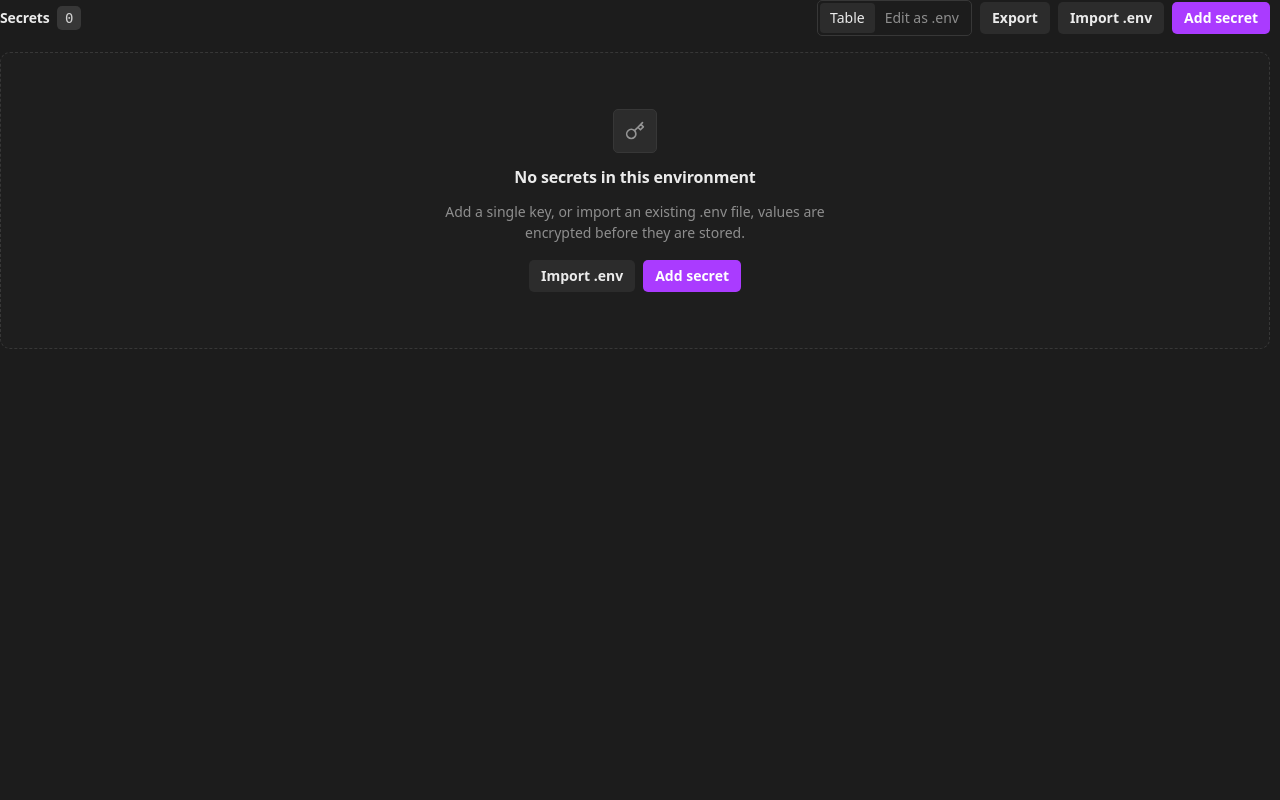
Test case: SecretsPanel create dialog › requires a value unless empty value is selected
Step 1. Click the 1st button "Add secret" → [1221, 18], box [1172,2,1270,34]
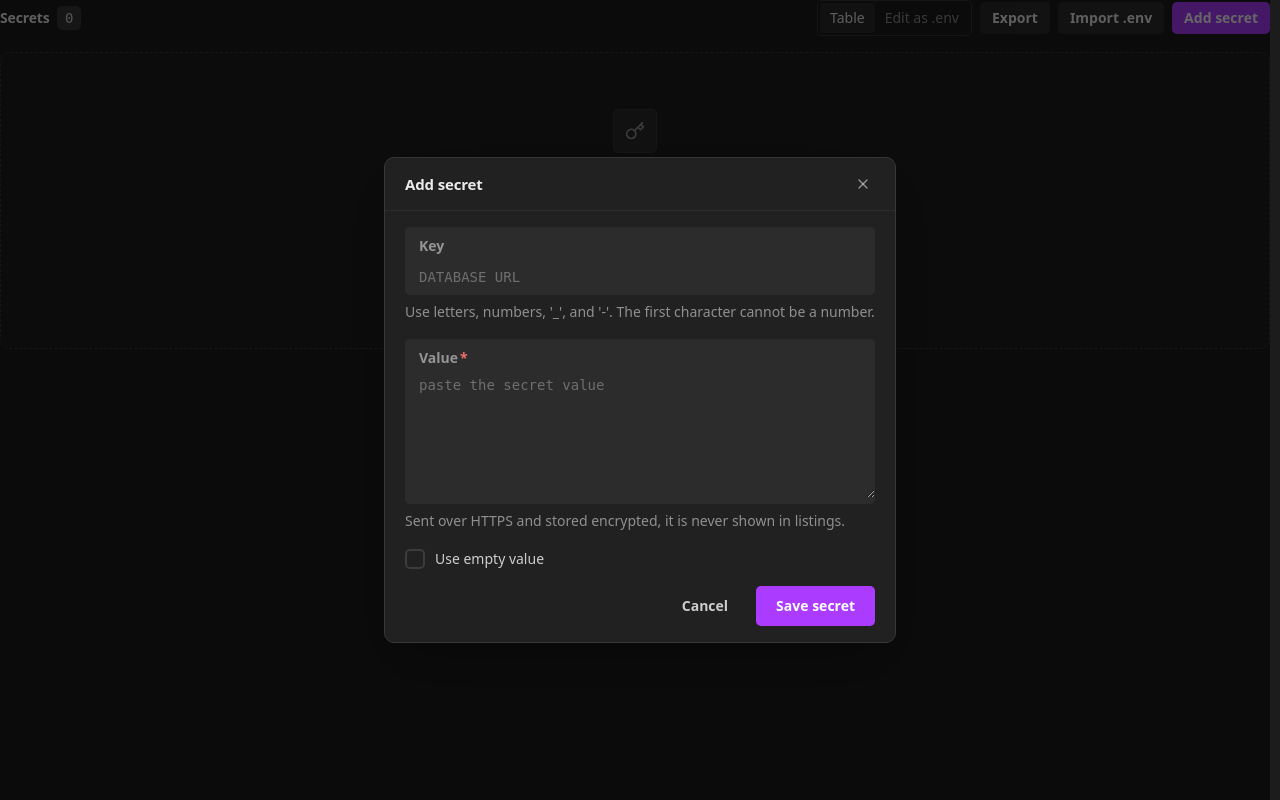
Step 2. Type "EMPTY_OK" into the field named "key" → [640, 277], box [405,259,875,295]
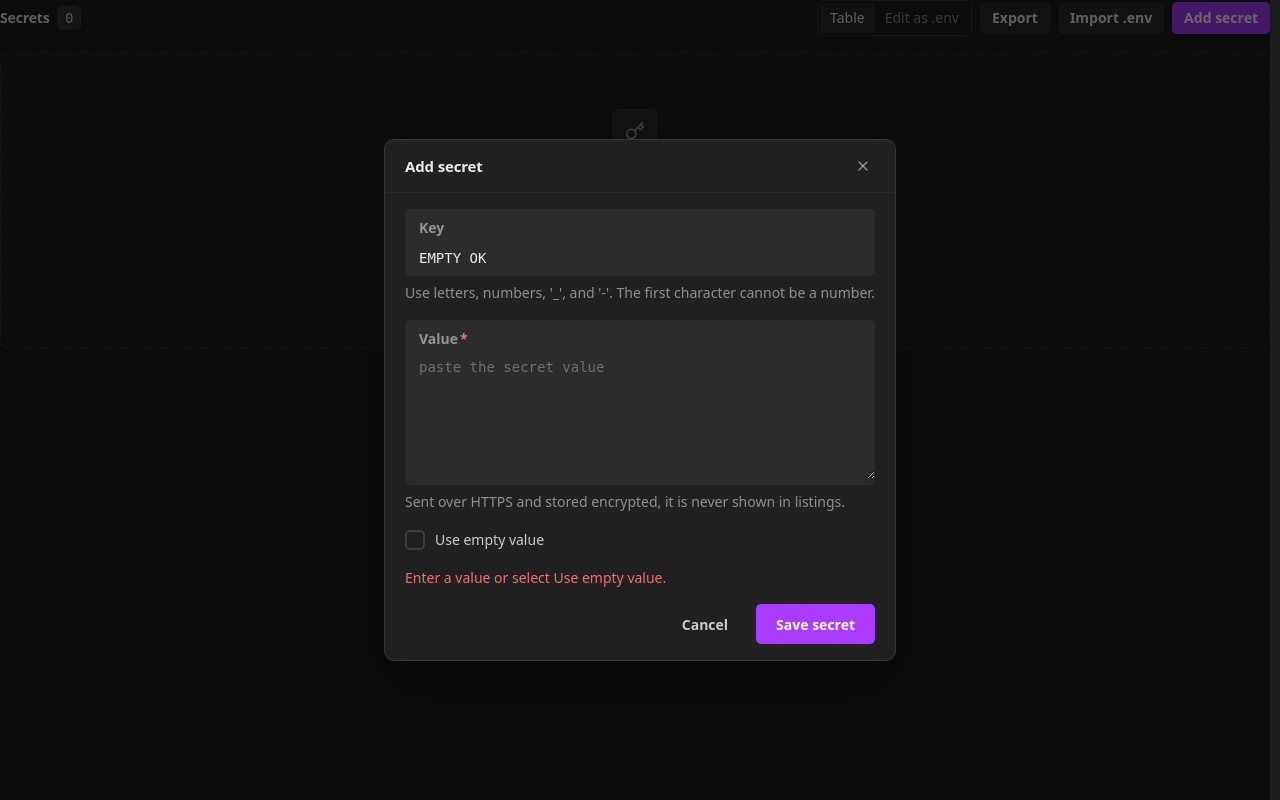
Expected: the text "Enter a value or select Use empty value." is shown, [405,568,666,587]
